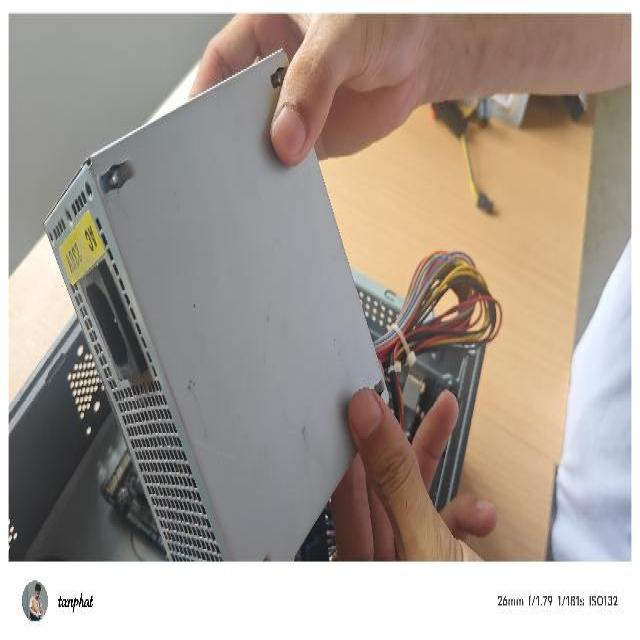PSU: (43, 45, 390, 560)
